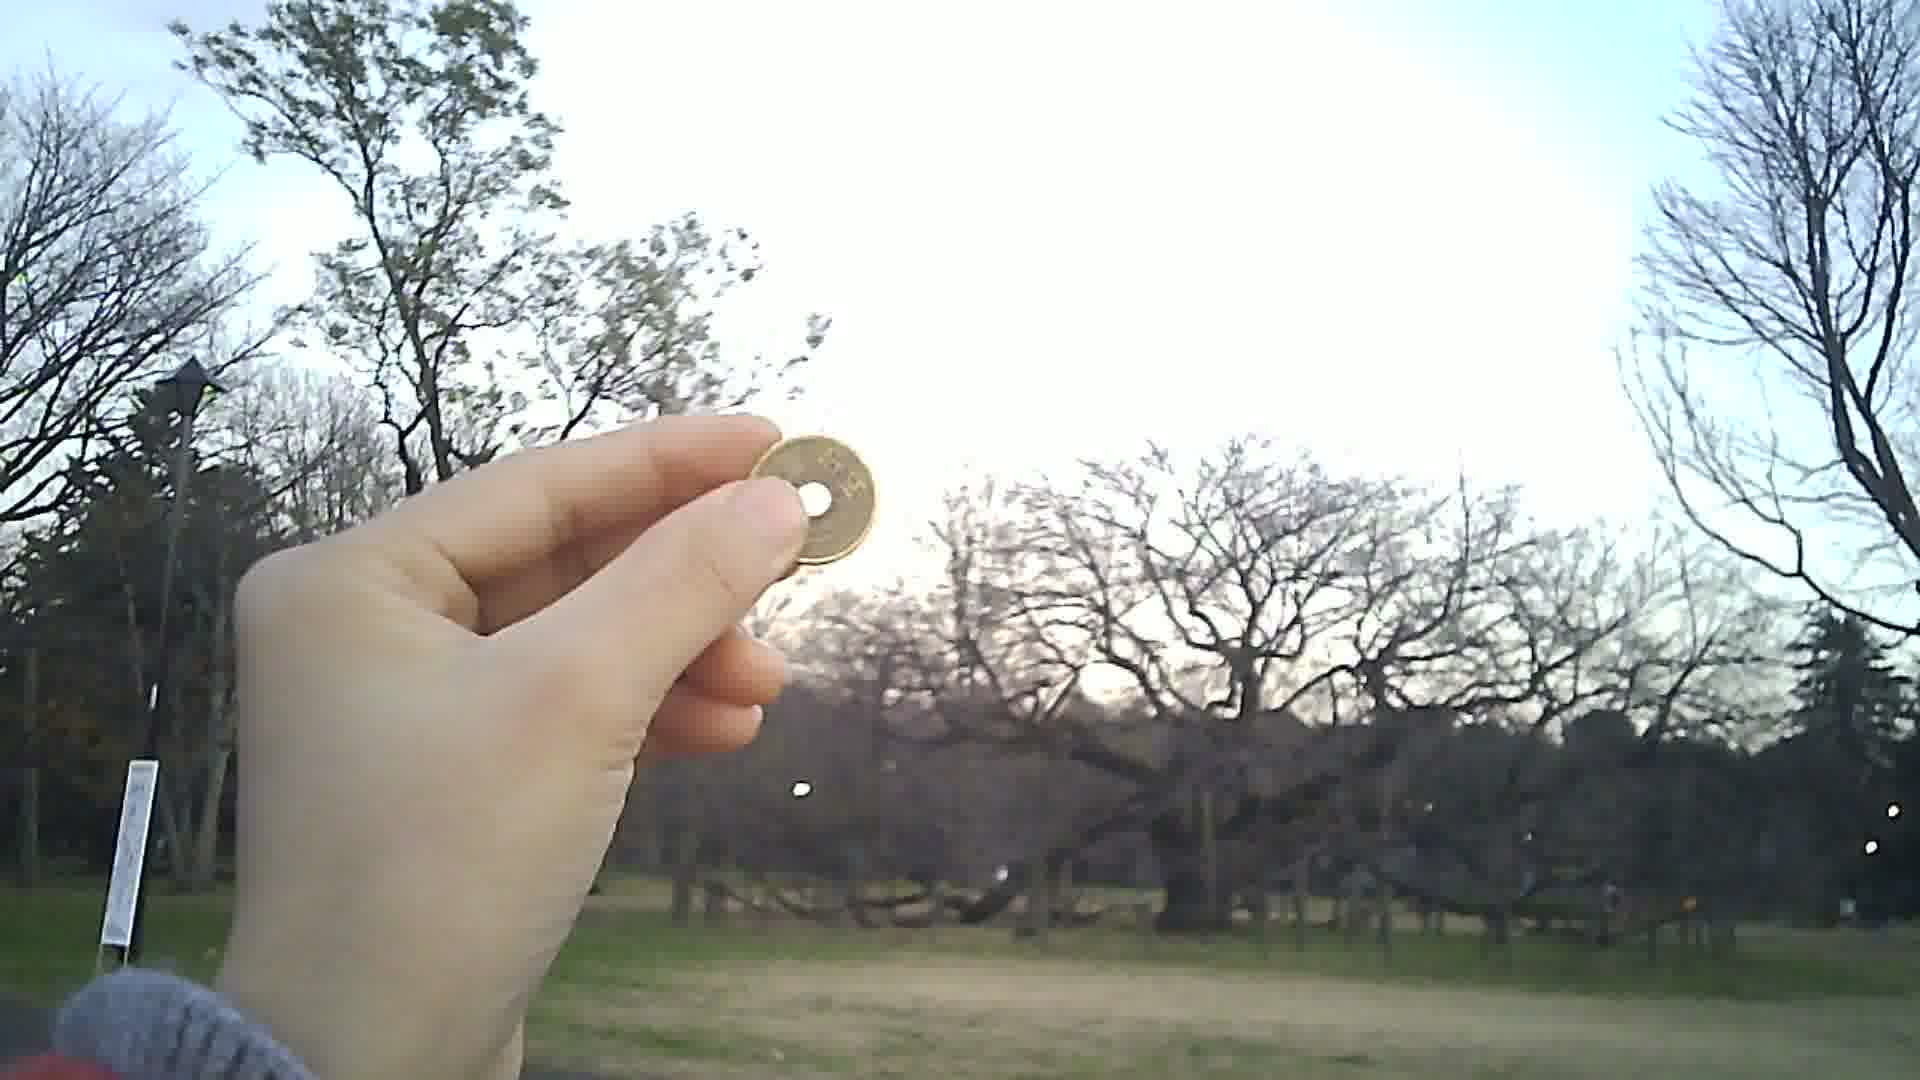5 Yen: (733, 429, 881, 560)
